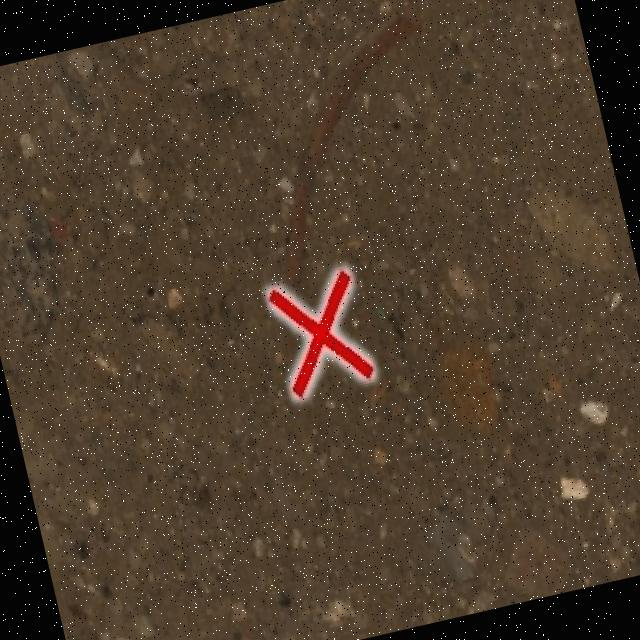x_marker: (266, 268, 374, 396)
